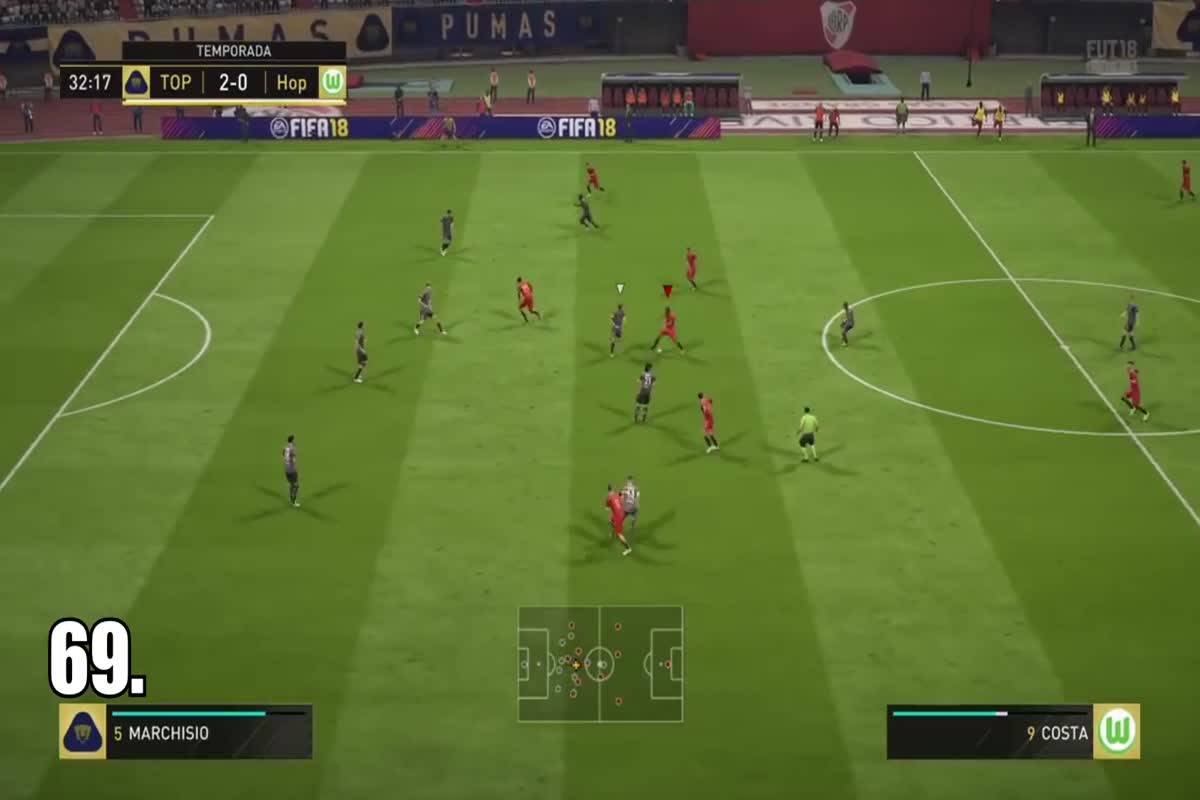ball: (651, 344, 671, 361)
